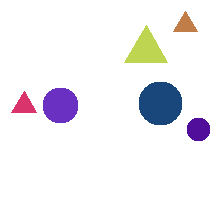circle: (139, 82, 181, 124), (43, 88, 77, 122), (187, 118, 209, 140)
triangle: (124, 25, 167, 62), (11, 91, 36, 112), (173, 11, 197, 31)
